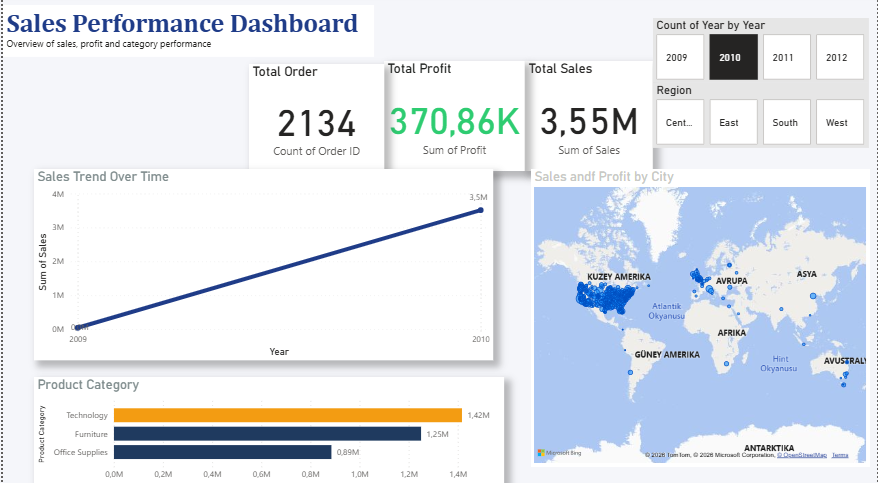

The page's visual inventory and layout, read from the dashboard file:
{"tool":"powerbi","page":{"name":"Executive Summary","canvas":[1280,720],"ordinal":0},"visuals":[{"type":"card","title":"Total Sales","fields":{"Values":["Sum(Orders.Sales)"]},"box":[763.9,96.6,187.3,161],"z":0},{"type":"card","title":"Total Profit","fields":{"Values":["Sum(Orders.Profit)"]},"box":[557.6,96.6,206.3,161],"z":1000},{"type":"card","title":"Total Order","fields":{"Values":["CountNonNull(Orders.Order ID)"]},"box":[360,101,197.6,156.6],"z":2000},{"type":"lineChart","title":"Sales Trend Over Time","fields":{"Category":["Orders.Order Date.Variation.Date Hierarchy.Year","Orders.Order Date.Variation.Date Hierarchy.Month"],"Y":["Sum(Orders.Sales)"]},"box":[45.4,254.6,671.7,279.5],"z":3000},{"type":"clusteredBarChart","title":"Product Category","fields":{"Category":["Orders.Product Category"],"Y":["Sum(Orders.Sales)"]},"box":[45.4,559,687.8,161],"z":4000},{"type":"textbox","box":[0,14.6,542.9,76.1],"z":5000},{"type":"map","title":"Sales andf Profit by City","fields":{"Size":["Sum(Orders.Sales)"],"Category":["Orders.City"]},"box":[772.7,254.6,494.6,434.6],"z":6000},{"type":"advancedSlicerVisual","fields":{"Values":["Orders.Ship Date.Variation.Date Hierarchy.Year"]},"box":[951.2,33.7,316.1,95.1],"z":7000},{"type":"advancedSlicerVisual","fields":{"Values":["Orders.Region"]},"box":[951.2,128.8,316.1,95.1],"z":7001}]}

Visuals, with their boxes in screenshot pixels (x1, y1, x2, y2), scaled from the page's 1280x720 canvas onto the 878x490 screenshot:
"Total Sales" card: [524,66,652,175]
"Total Profit" card: [382,66,524,175]
"Total Order" card: [247,69,382,175]
"Sales Trend Over Time" lineChart: [31,173,492,363]
"Product Category" clusteredBarChart: [31,380,503,489]
textbox: [0,10,372,62]
"Sales andf Profit by City" map: [530,173,869,469]
advancedSlicerVisual - Orders.Ship Date.Variation.Date Hierarchy.Year: [652,23,869,88]
advancedSlicerVisual - Orders.Region: [652,88,869,152]
